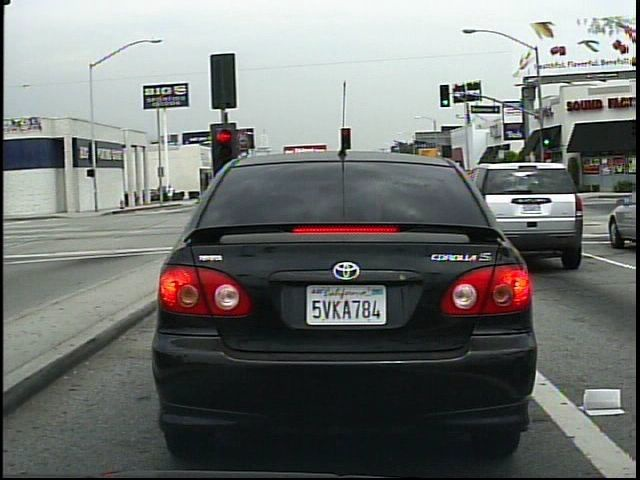person: (517, 166, 533, 198), (165, 182, 177, 206)
